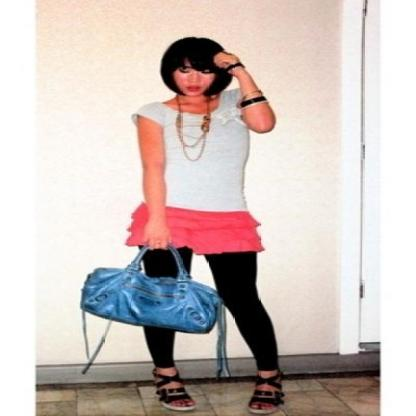bag: (80, 246, 226, 340)
shirt: (137, 97, 253, 212)
shoe: (149, 367, 292, 407)
skirt: (125, 203, 261, 258)
